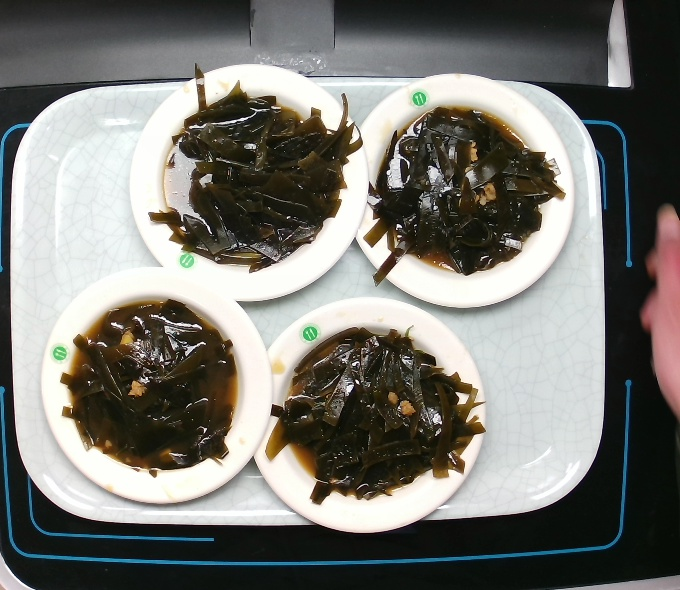wcq-HaiDai: (273, 327, 484, 504), (146, 84, 357, 261), (366, 109, 577, 286), (56, 292, 241, 477)
